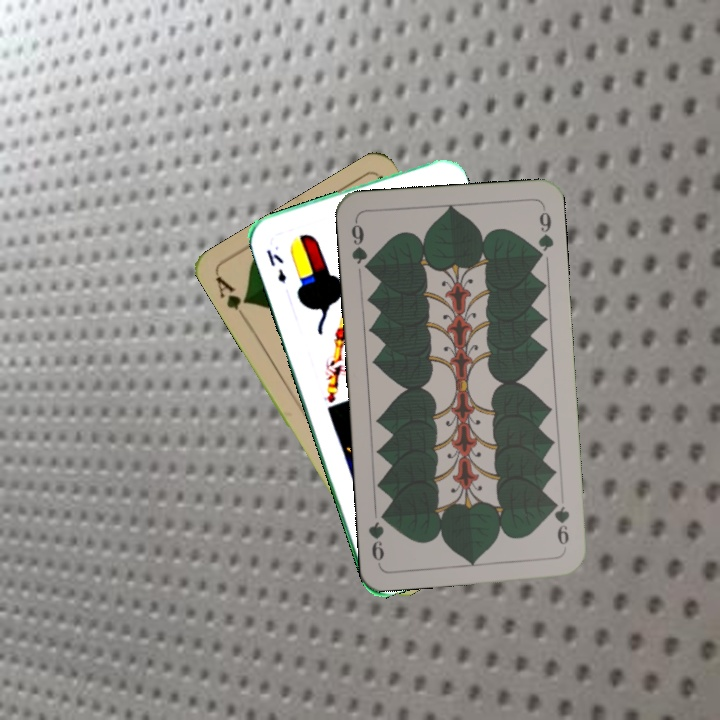EK: (262, 245, 290, 285)
G9: (347, 216, 374, 275), (548, 495, 572, 547)
GA: (211, 272, 252, 325)
